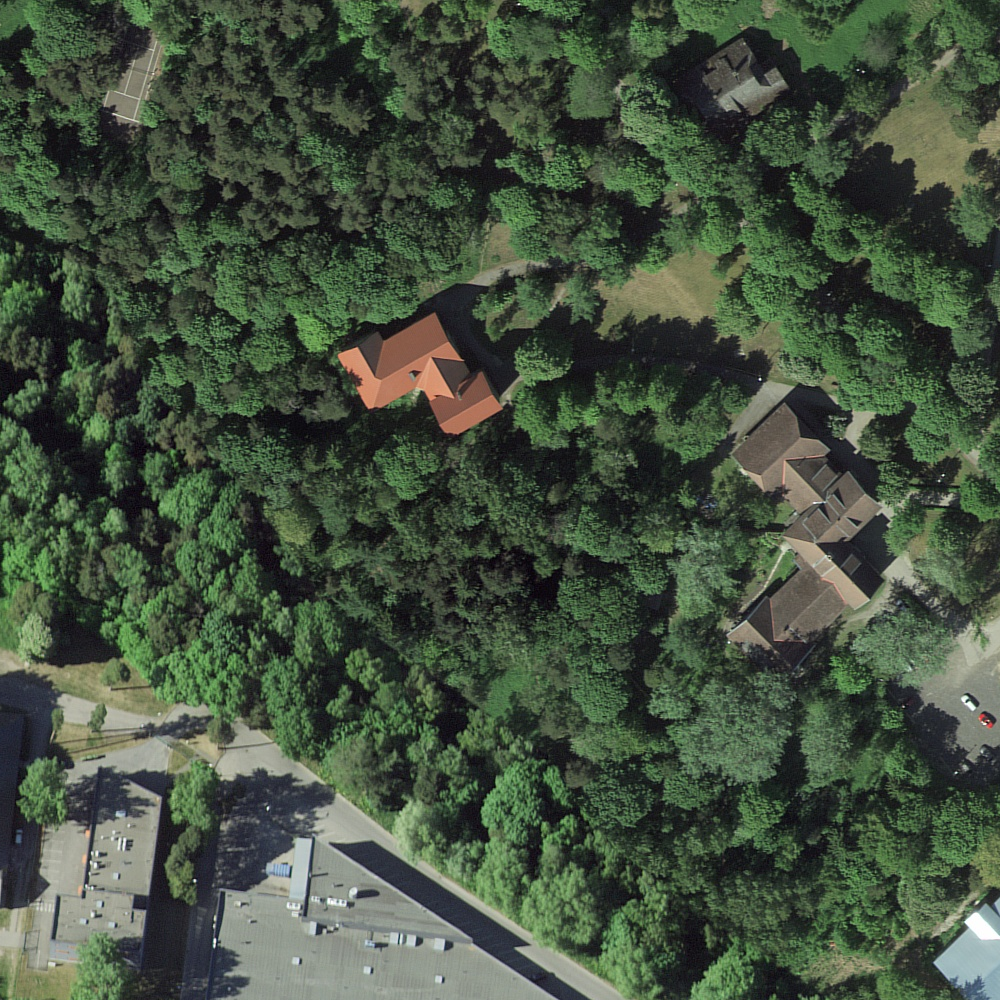building: (206, 837, 557, 999), (726, 403, 886, 688), (338, 312, 503, 437), (672, 39, 792, 140), (933, 897, 1000, 1000)
